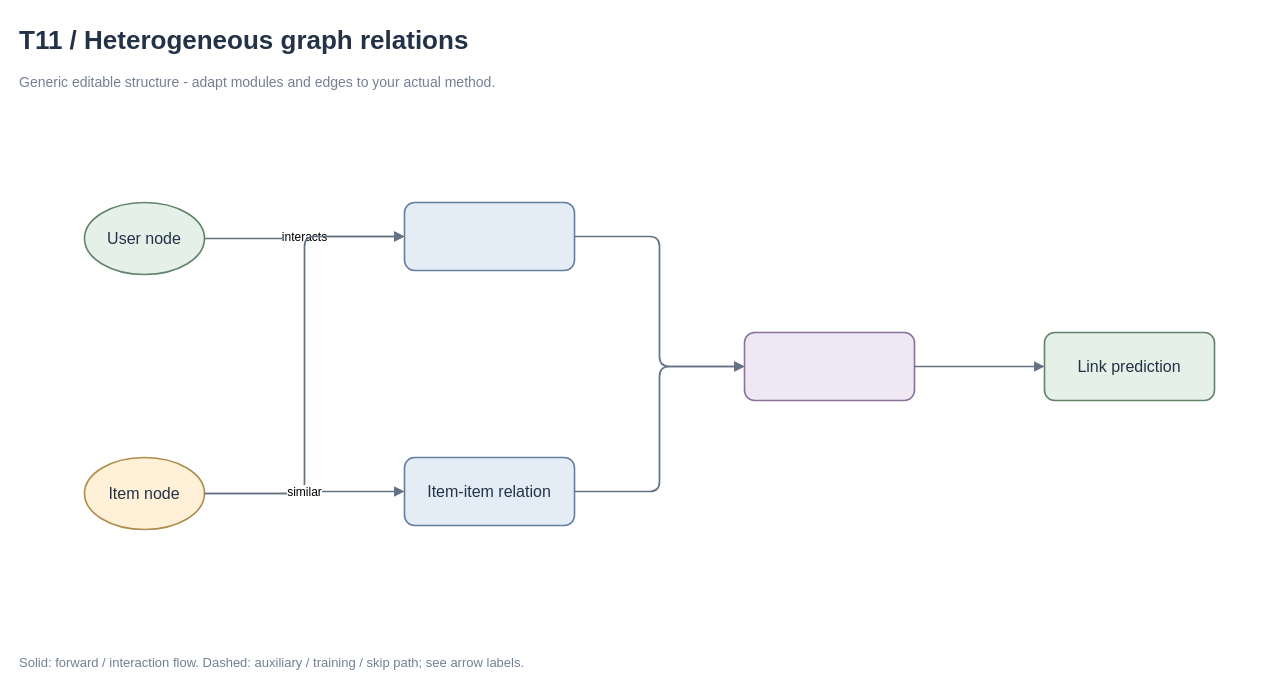
This 1264x695 diagram has some shape labels left out. The shapes that lost their labels are listed below. From the top down, each one's centre as x and y in pixels, then its label:
[489,236]: User-item relation
[829,366]: Relation-aware aggregation
